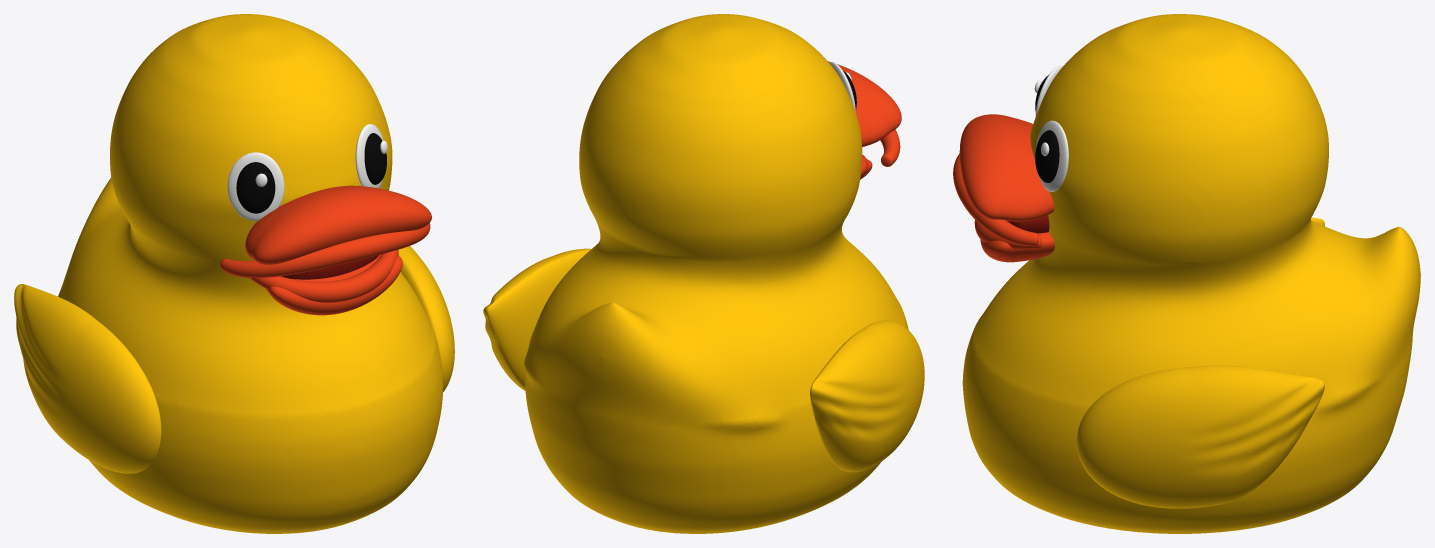
Rendered from rubber_duck_2.glb.
The picture shows the model from 3 angles, left to right: view 1: azimuth 30°, elevation 25°; view 2: azimuth 150°, elevation 25°; view 3: azimuth 270°, elevation 25°; orthographic projection. The views are drawn at different scales.
Visible parts, largest first — view 1: duck_body, wing_R, beak_upper, lip_upper, wing_L, lip_lower, beak_lower, eye_ring_-1, eye_-1, eye_1, mouth, eye_ring_1; view 2: duck_body, wing_R, wing_L, beak_upper, lip_upper; view 3: duck_body, wing_L, beak_upper, lip_upper, beak_lower, eye_1, eye_ring_1.
Part boxes in pixels (bbox=[...]): duck_body: bbox=[58, 14, 443, 533]; wing_R: bbox=[14, 284, 161, 473]; beak_upper: bbox=[245, 185, 431, 264]; lip_upper: bbox=[220, 223, 430, 277]; wing_L: bbox=[398, 246, 454, 391]; lip_lower: bbox=[250, 249, 398, 302]; beak_lower: bbox=[266, 254, 402, 315]; eye_ring_-1: bbox=[227, 152, 284, 220]; eye_-1: bbox=[236, 162, 275, 213]; eye_1: bbox=[364, 133, 386, 184]; mouth: bbox=[281, 255, 378, 279]; eye_ring_1: bbox=[355, 124, 383, 188]; duck_body: bbox=[524, 14, 908, 533]; wing_R: bbox=[810, 320, 924, 472]; wing_L: bbox=[483, 248, 590, 390]; beak_upper: bbox=[828, 61, 901, 146]; lip_upper: bbox=[880, 129, 900, 166]; duck_body: bbox=[962, 14, 1420, 533]; wing_L: bbox=[1076, 365, 1324, 508]; beak_upper: bbox=[959, 114, 1054, 221]; lip_upper: bbox=[953, 153, 1038, 245]; beak_lower: bbox=[980, 232, 1054, 262]; eye_1: bbox=[1035, 130, 1059, 182]; eye_ring_1: bbox=[1036, 120, 1068, 191].
Bounding box in the file's own units: 1.77 × 1.99 × 1.86.
